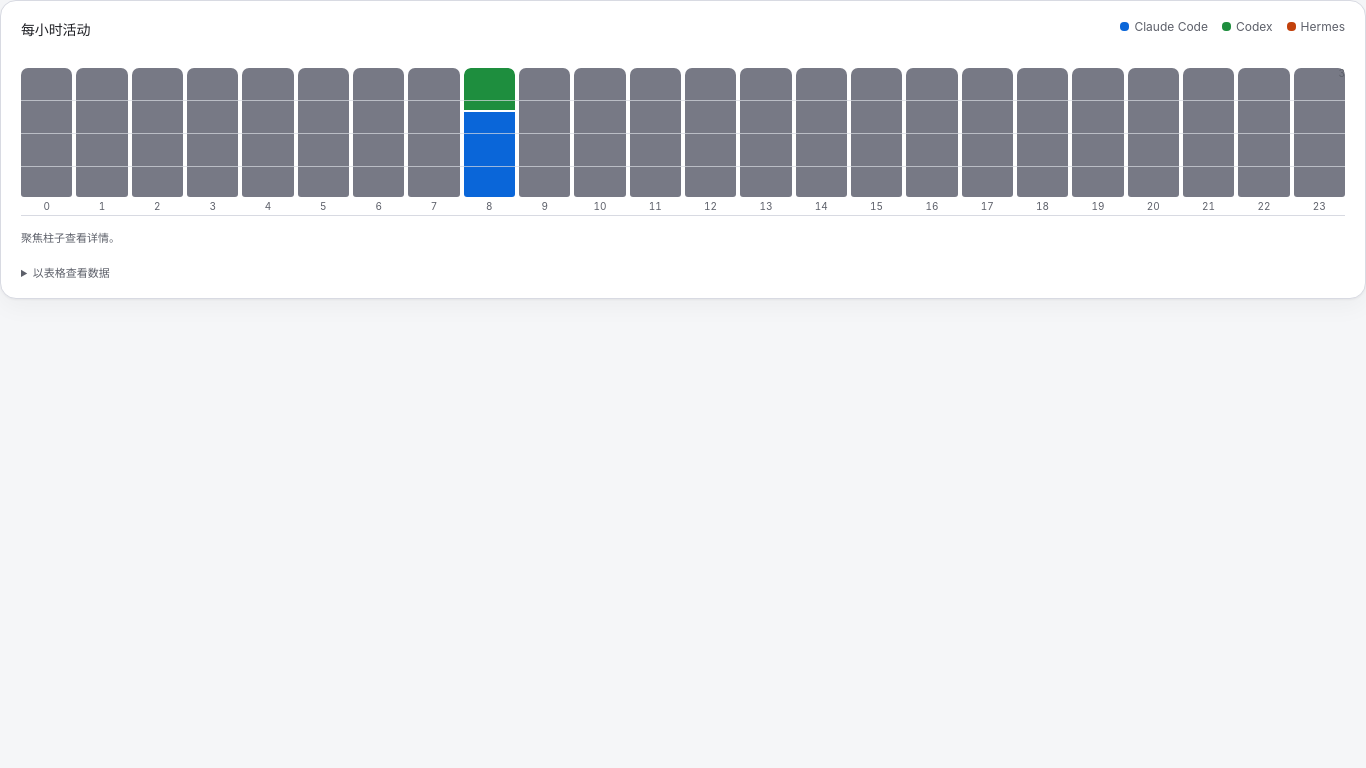
Test case: HourlyActivityChart › renders 24 accessible bars with legend and table fallback
Expected: the text "Codex" is shown, [1222,19,1272,34]
Expected: the text "Hermes" is shown, [1286,19,1345,34]
What coordinates should you click on to do the following:
click the heading "以表格查看数据"
I would click on:
 (71, 273)
Its box is [33,266,110,280].
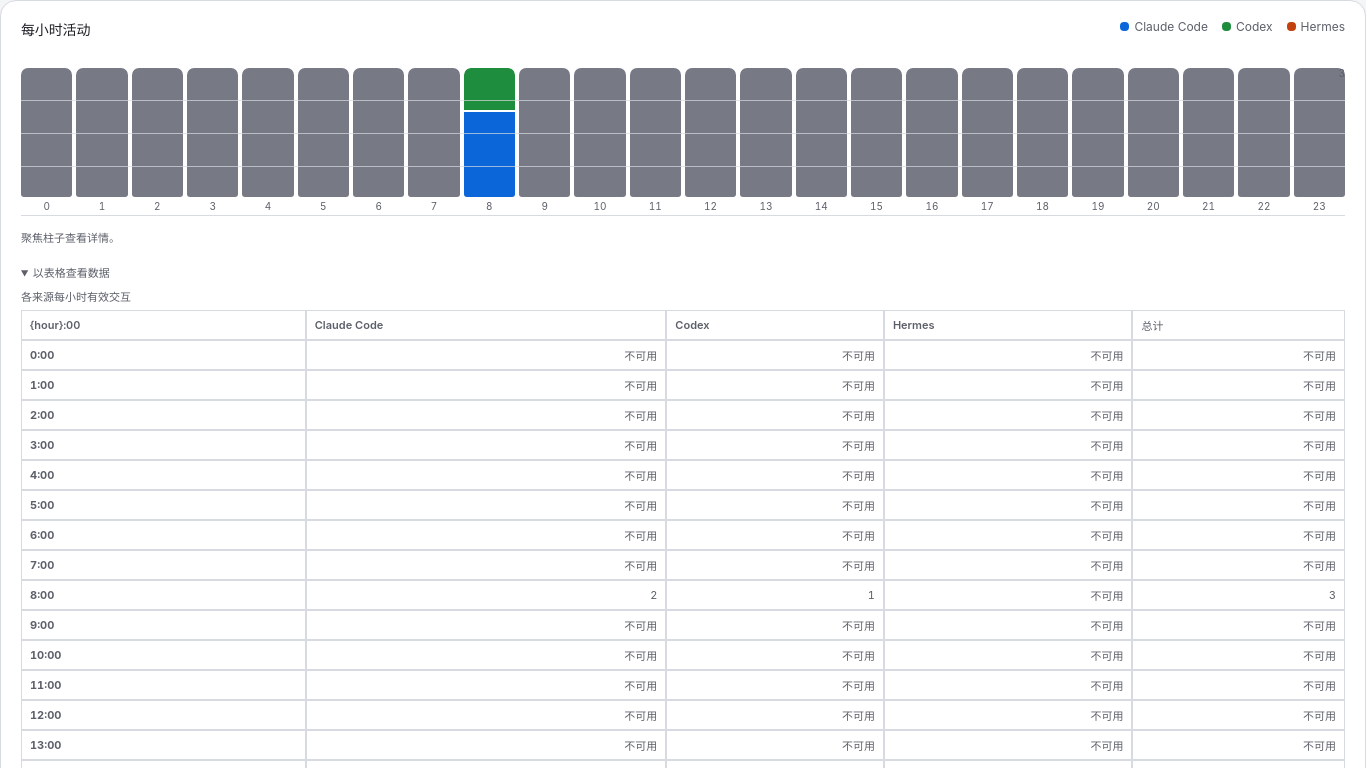
Expected: the text with class "hourly-scale-max" reads "3", [1338,67,1345,79]
Result: the column heading "8:00" is shown at [21,580,306,610]
Result: the table shows "不可用" at [624,349,657,363]
